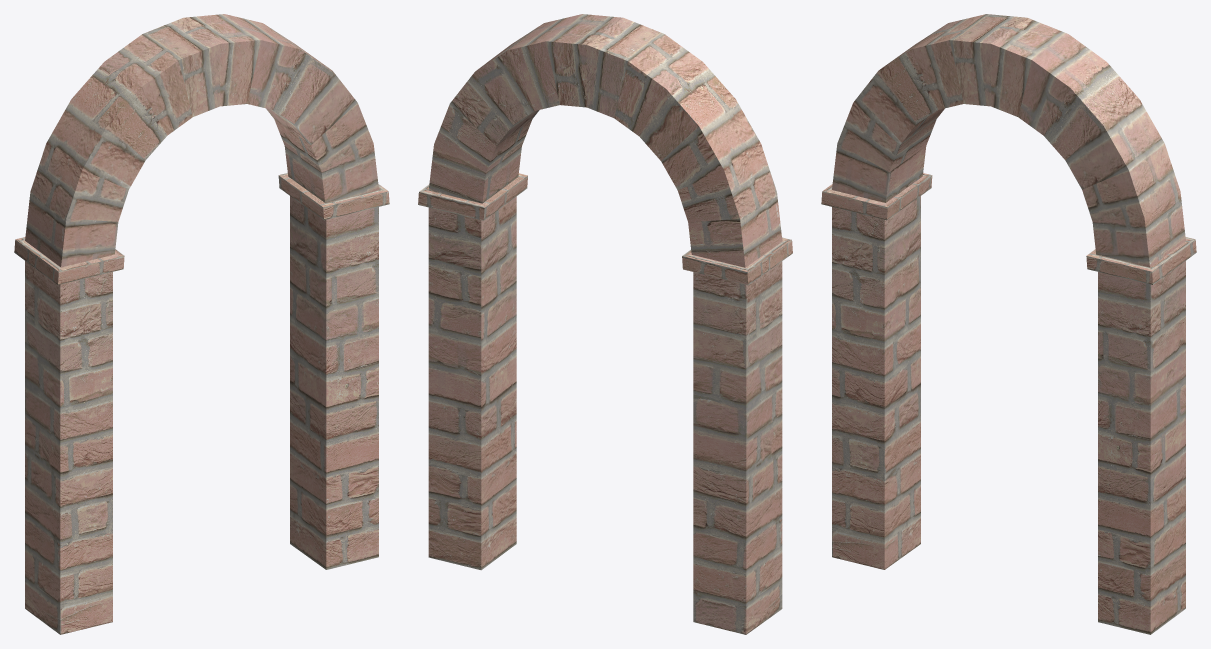
File: ArchesbRricksDoubleDoors.fbx
The picture shows the model from 3 angles, left to right: view 1: azimuth 30°, elevation 25°; view 2: azimuth 150°, elevation 25°; view 3: azimuth 330°, elevation 25°; orthographic projection.
Visible parts, largest first — view 1: ArchesbRricksDoubleDoors; view 2: ArchesbRricksDoubleDoors; view 3: ArchesbRricksDoubleDoors.
Boxes of the visible parts, <box> form: ArchesbRricksDoubleDoors: <box>14,14,389,634</box>; ArchesbRricksDoubleDoors: <box>418,14,792,634</box>; ArchesbRricksDoubleDoors: <box>821,14,1196,634</box>.
Bounding box in the file's own units: 183 × 292 × 42.29.
1 material, 1 textured.
